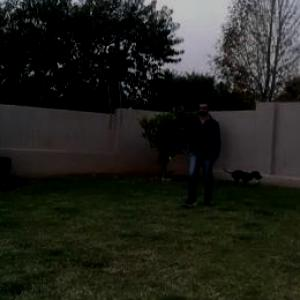follow: (188, 98, 219, 205)
